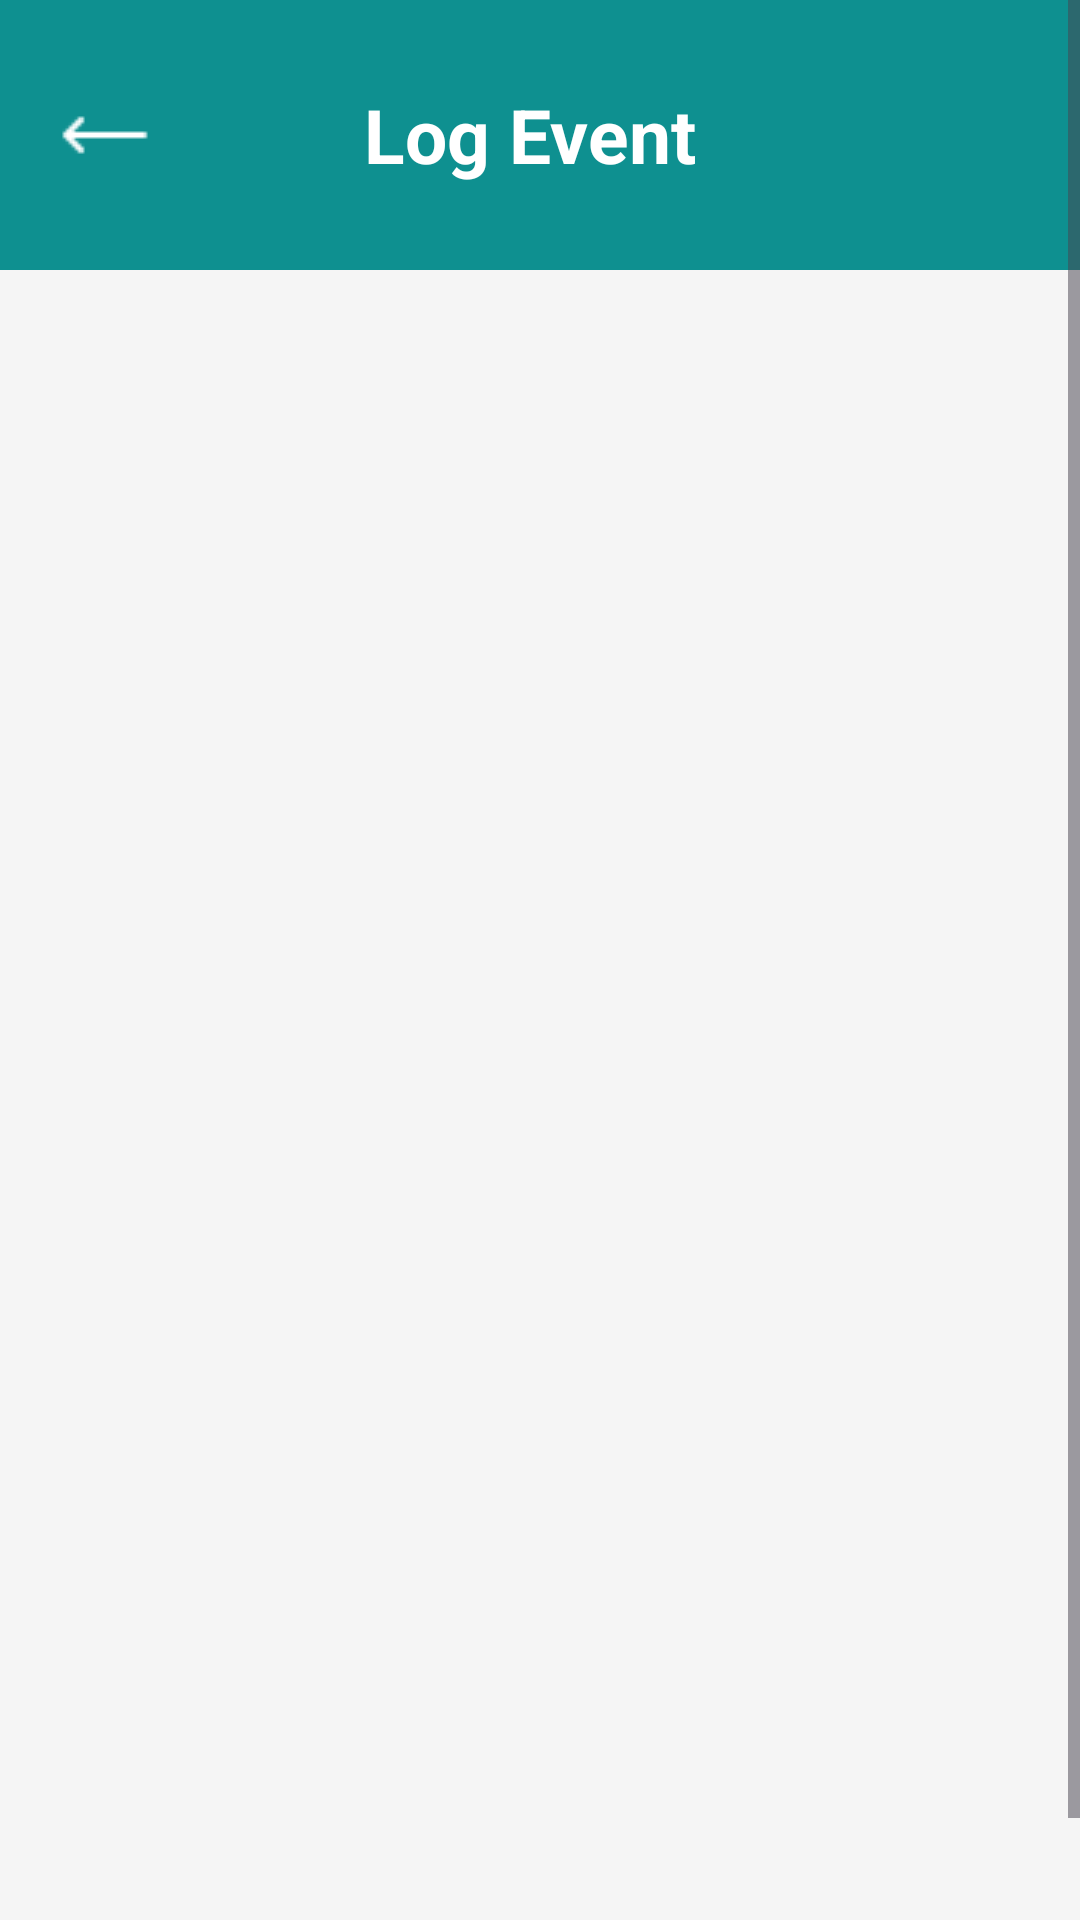

Where to tap for icons on this 1080px×1920px app screen, as (x=x, y=y):
leftarrow: (x=105, y=135)
